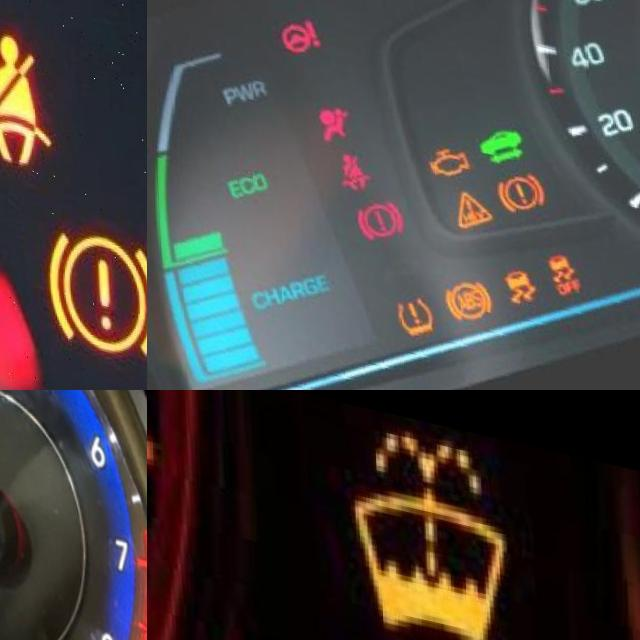Seat Belt: (0, 16, 51, 160)
Washer Fluid: (348, 406, 509, 636)
